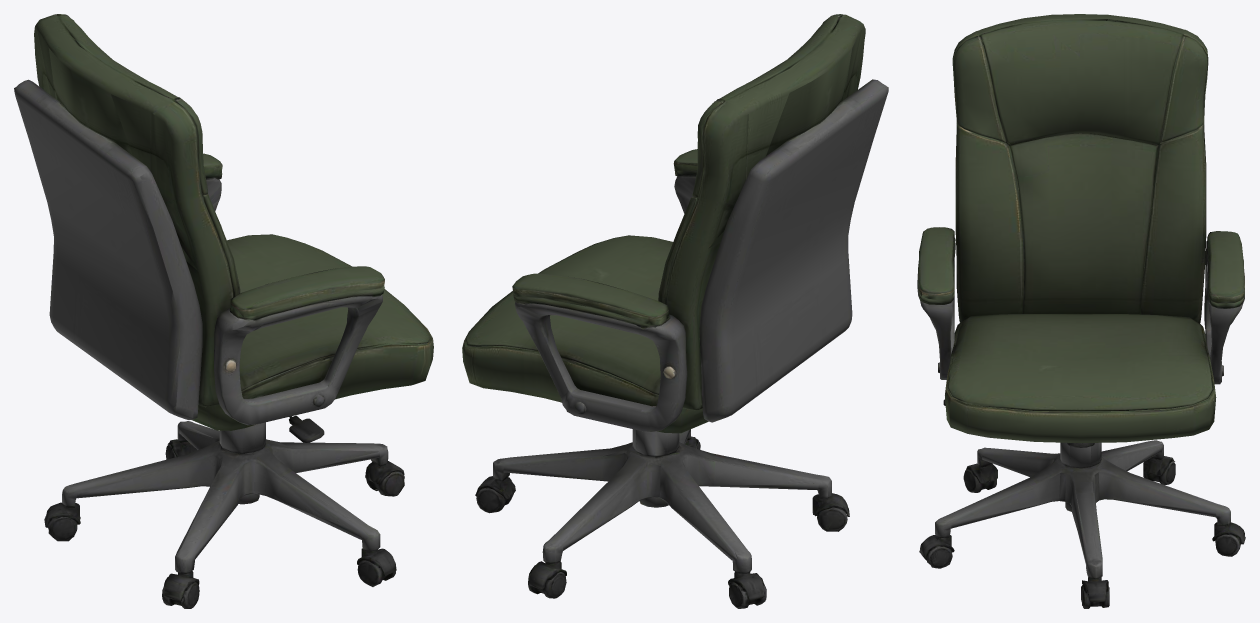
File: office_chair.glb
3 renders of one model, left to right at view 1: azimuth 30°, elevation 25°; view 2: azimuth 150°, elevation 25°; view 3: azimuth 270°, elevation 25°, orthographic. The views are drawn at different scales.
Visible parts, largest first — view 1: office_chair; view 2: office_chair; view 3: office_chair.
Boxes of the visible parts, <box> form: office_chair: <box>14,14,433,608</box>; office_chair: <box>462,14,888,608</box>; office_chair: <box>917,14,1245,608</box>.
Bounding box in the file's own units: 0.7323 × 1.06 × 0.6908.
Materials: 1 (1 with a texture image).
